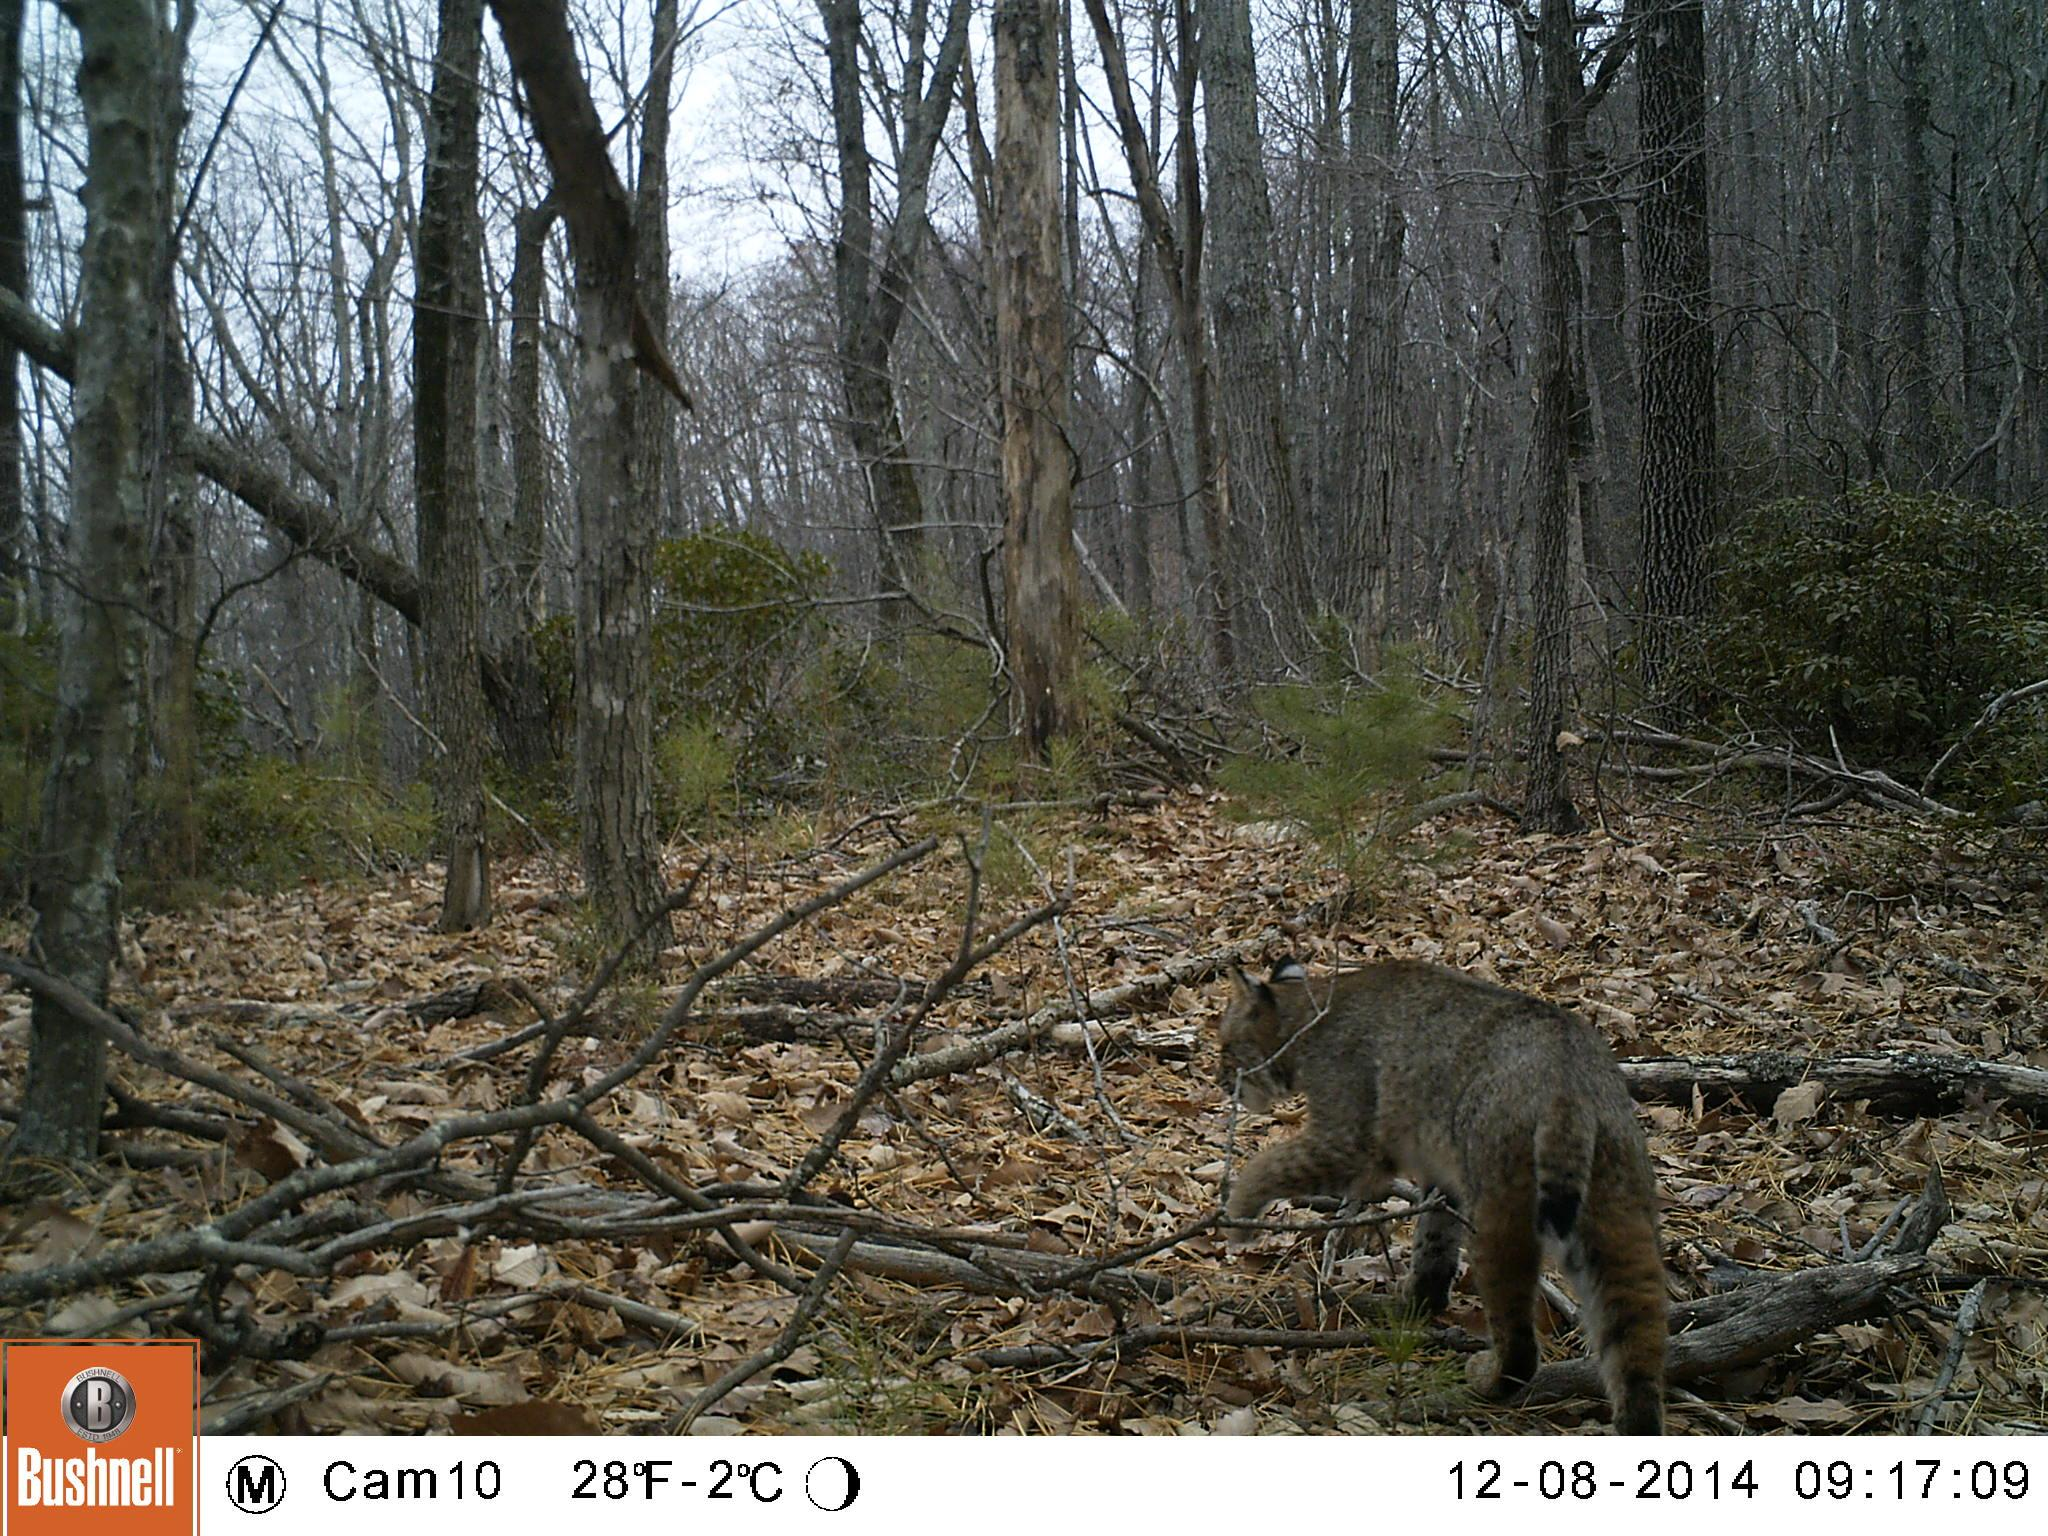Animal: (1221, 954, 1671, 1436)
